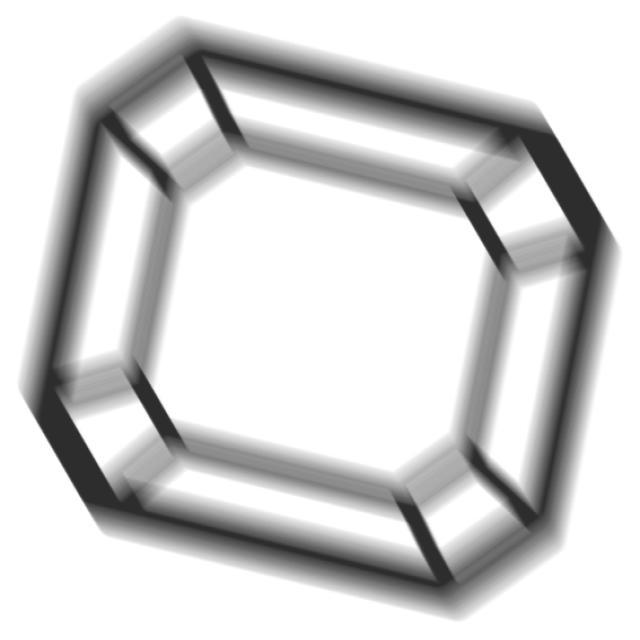emerald: (15, 17, 629, 631)
